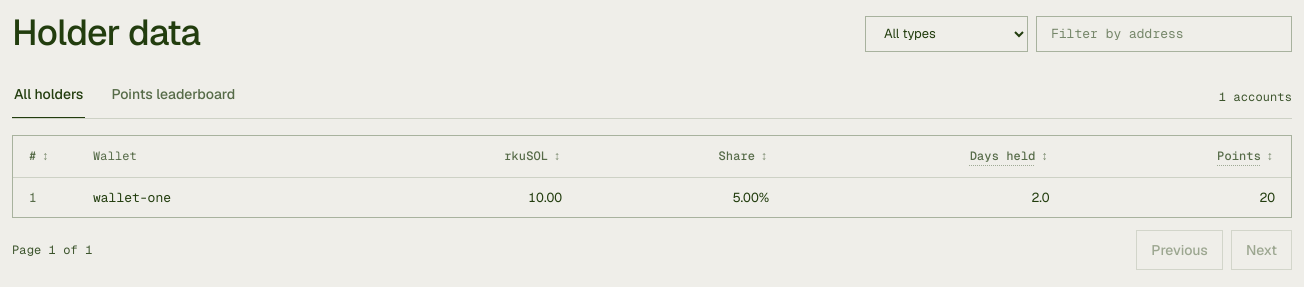
analytics sections › switches between holder and points tables
Click the tab "Points leaderboard" at (173, 99), box [109,80,237,119]
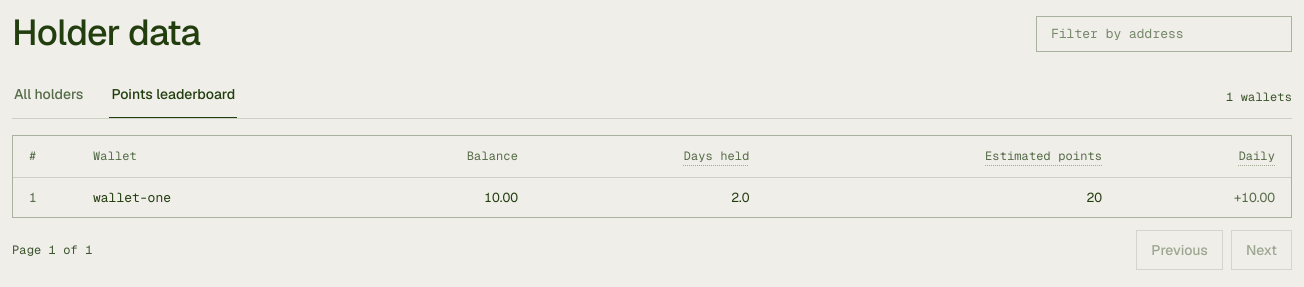
Check: the text "Estimated points" is shown, box [985,148,1102,165]
